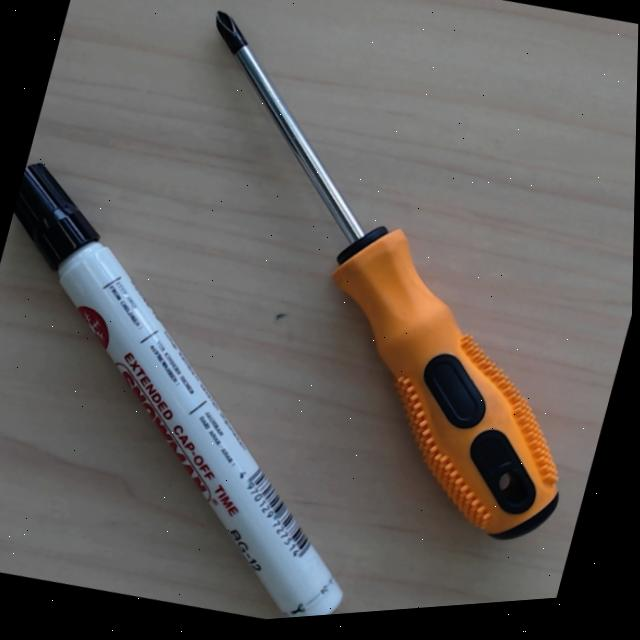Marker-Pen: (0, 153, 349, 635)
